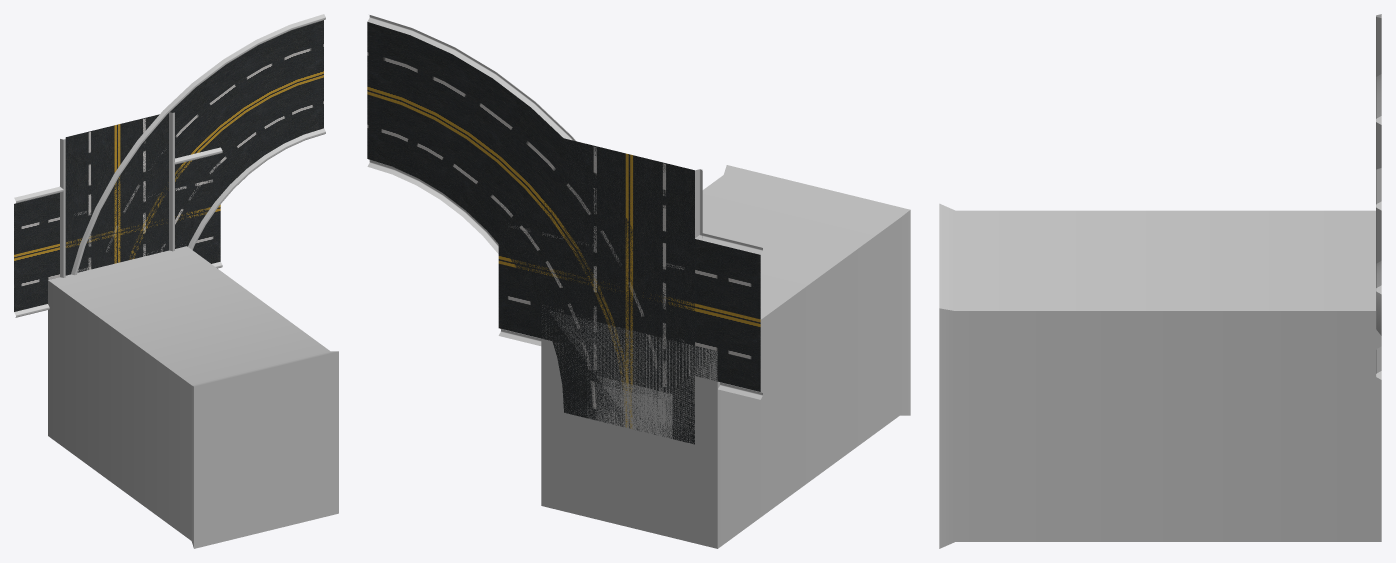
File: BUILDINGS & ROADS.obj
3 views of the same model, side by side, from view 1: azimuth 30°, elevation 25°; view 2: azimuth 150°, elevation 25°; view 3: azimuth 270°, elevation 25° (orthographic). The views are drawn at different scales.
Parts seen in each view (by area): view 1: BUILDING_1_Cube, ROAD_2_Plane.003, ROAD_1_Plane.001, ROAD_3_Plane.011, SIDE_BLOCK_ROAD_2_Plane.006, SIDE_BLOCK_ROAD_1_Plane.005, SIDE_BLOCK_ROAD_3_Plane.012; view 2: BUILDING_1_Cube, ROAD_2_Plane.003, ROAD_1_Plane.001, ROAD_3_Plane.011, BUILDING_2_Cube.003, BUILDING_3_Cube.006, SIDE_BLOCK_ROAD_2_Plane.006, SIDE_BLOCK_ROAD_3_Plane.012; view 3: BUILDING_1_Cube, SIDE_BLOCK_ROAD_1_Plane.005, SIDE_BLOCK_ROAD_3_Plane.012, SIDE_BLOCK_ROAD_2_Plane.006.
Part boxes in pixels (left/top/right/bottom): BUILDING_1_Cube: left=48, top=246, right=338, bottom=548; ROAD_2_Plane.003: left=84, top=20, right=323, bottom=269; ROAD_1_Plane.001: left=65, top=113, right=168, bottom=275; ROAD_3_Plane.011: left=14, top=114, right=220, bottom=311; SIDE_BLOCK_ROAD_2_Plane.006: left=71, top=14, right=325, bottom=275; SIDE_BLOCK_ROAD_1_Plane.005: left=60, top=112, right=174, bottom=277; SIDE_BLOCK_ROAD_3_Plane.012: left=14, top=113, right=222, bottom=317; BUILDING_1_Cube: left=541, top=165, right=910, bottom=548; ROAD_2_Plane.003: left=367, top=22, right=694, bottom=443; ROAD_1_Plane.001: left=564, top=138, right=694, bottom=444; ROAD_3_Plane.011: left=498, top=139, right=760, bottom=442; BUILDING_2_Cube.003: left=596, top=384, right=662, bottom=473; BUILDING_3_Cube.006: left=586, top=373, right=672, bottom=483; SIDE_BLOCK_ROAD_2_Plane.006: left=367, top=15, right=575, bottom=253; SIDE_BLOCK_ROAD_3_Plane.012: left=498, top=170, right=762, bottom=399; BUILDING_1_Cube: left=939, top=203, right=1381, bottom=548; SIDE_BLOCK_ROAD_1_Plane.005: left=1376, top=14, right=1381, bottom=263; SIDE_BLOCK_ROAD_3_Plane.012: left=1376, top=14, right=1381, bottom=379; SIDE_BLOCK_ROAD_2_Plane.006: left=1376, top=74, right=1381, bottom=335.
Size of the model in its own units: 24 by 26.46 by 19.99.
